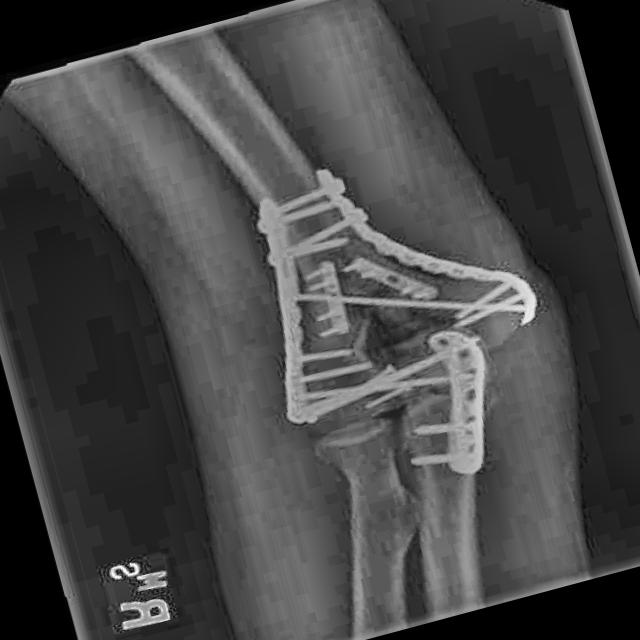elbow positive: (348, 301, 436, 358)
